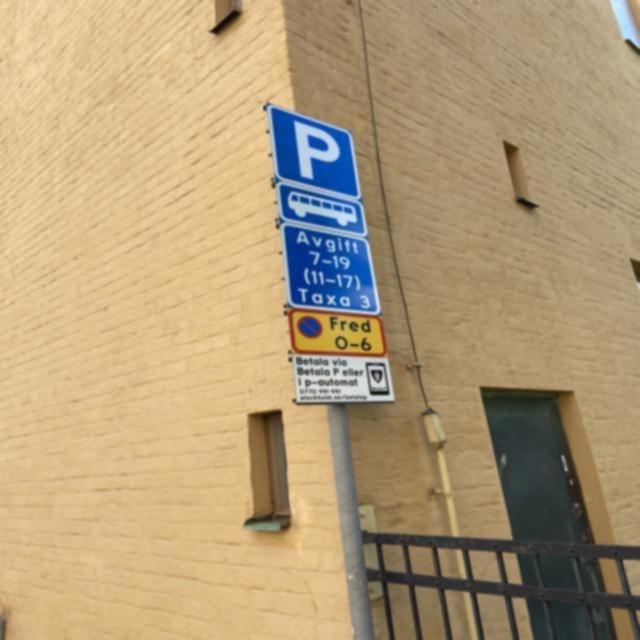P-skylt: (266, 102, 365, 202)
